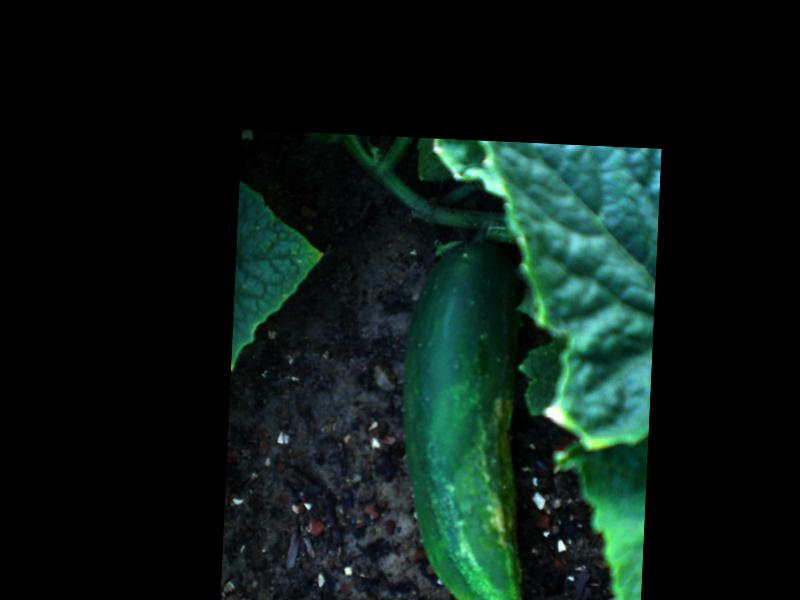Cucumber: (393, 239, 540, 600)
